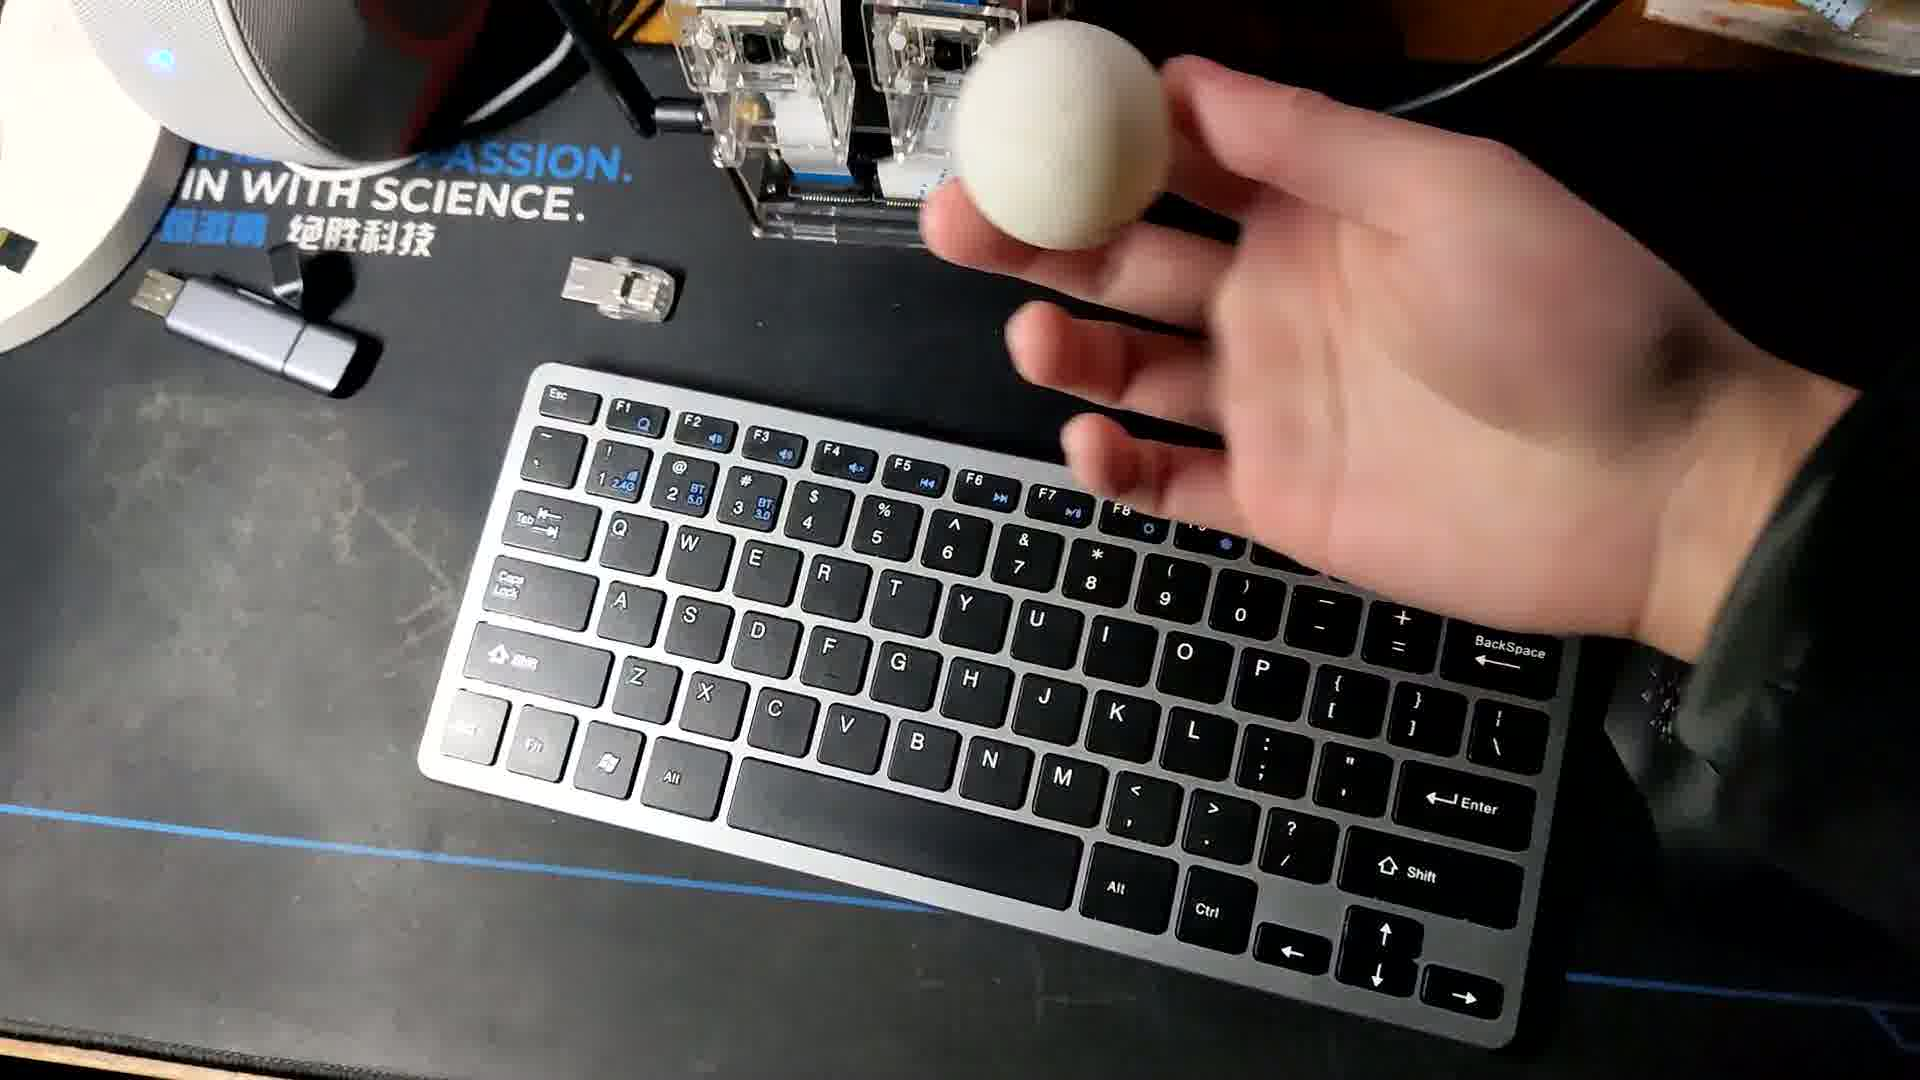Ball: (940, 20, 1174, 247)
